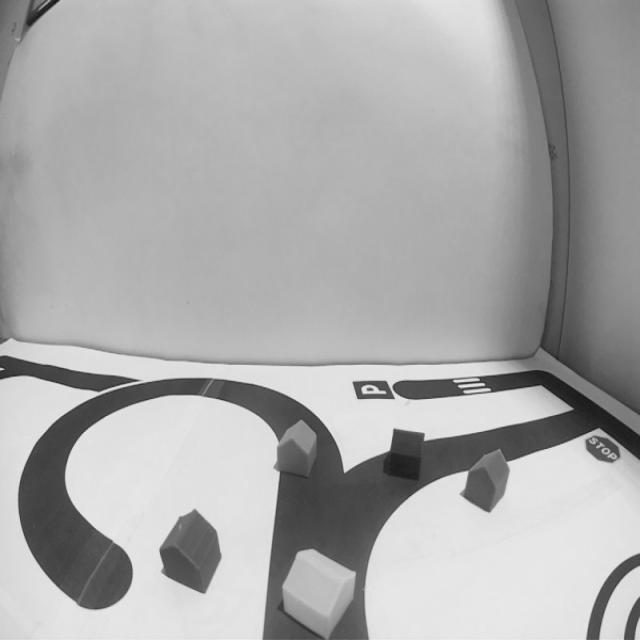home: (281, 548, 355, 640), (160, 509, 222, 594), (462, 448, 510, 514), (274, 419, 318, 479), (386, 428, 426, 480)
